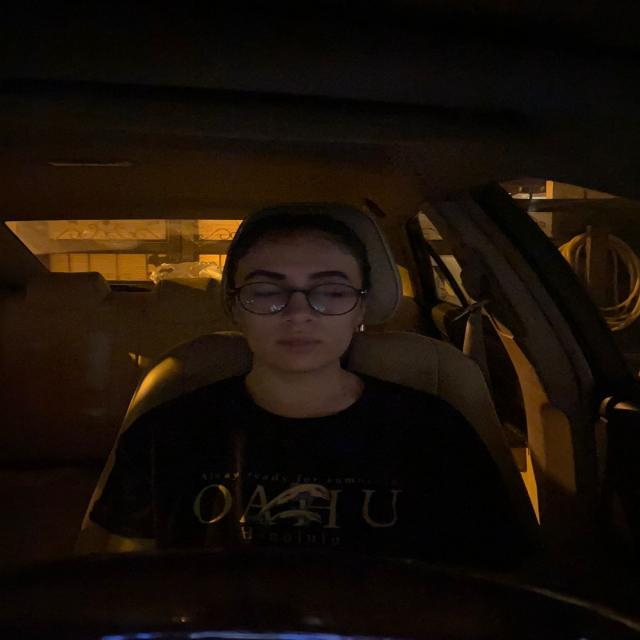drowsy: (217, 206, 375, 382)
